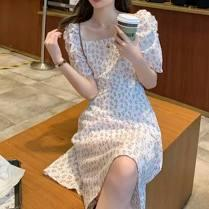dress: (61, 13, 159, 206)
